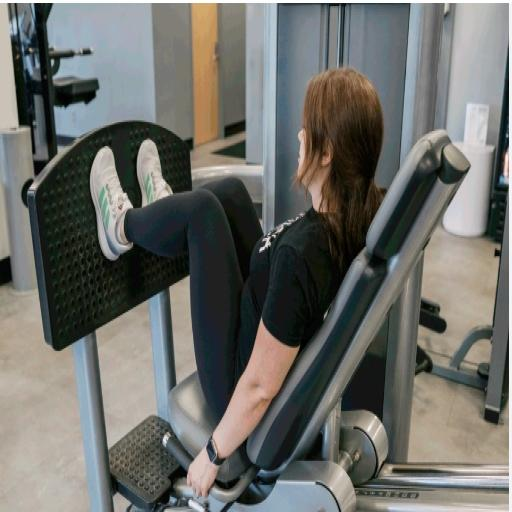Leg Press: (30, 126, 473, 499)
